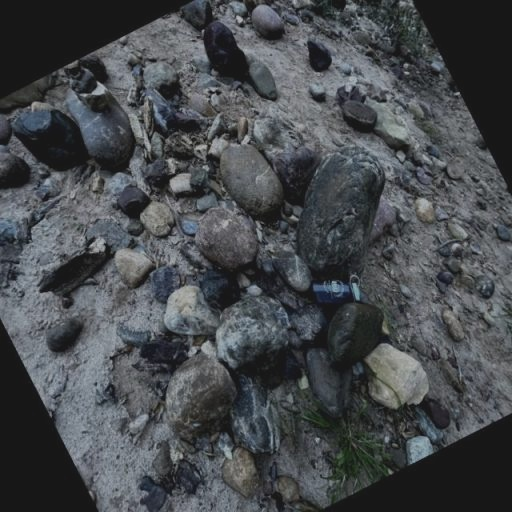bottle: (305, 260, 368, 320)
